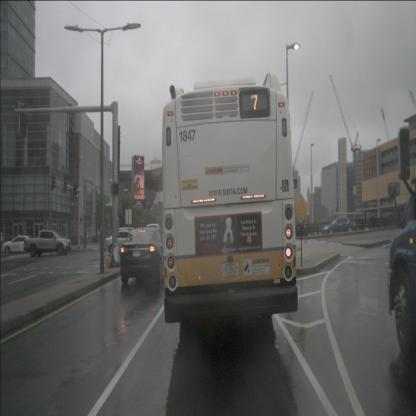movable_object-trafficcone: (104, 247, 110, 268)
vehicle-bus-rigid: (161, 71, 299, 328)
vehicle-car: (120, 228, 167, 283), (105, 230, 144, 254), (1, 235, 35, 254), (322, 216, 356, 235), (146, 224, 160, 239)
vehicle-truck: (24, 230, 70, 257)
